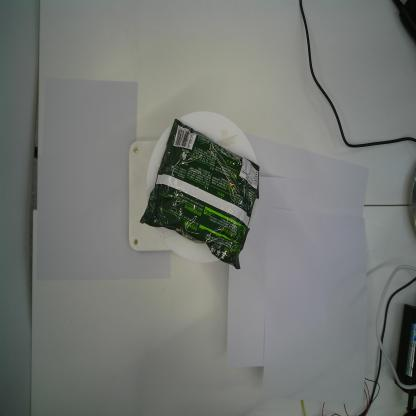Instant Noodles: (138, 114, 260, 273)
